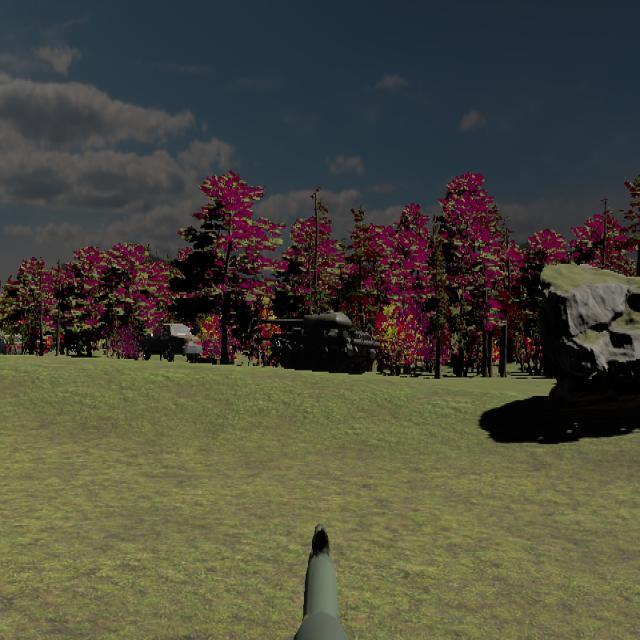Tank: (253, 310, 378, 374)
car: (137, 322, 202, 361)
